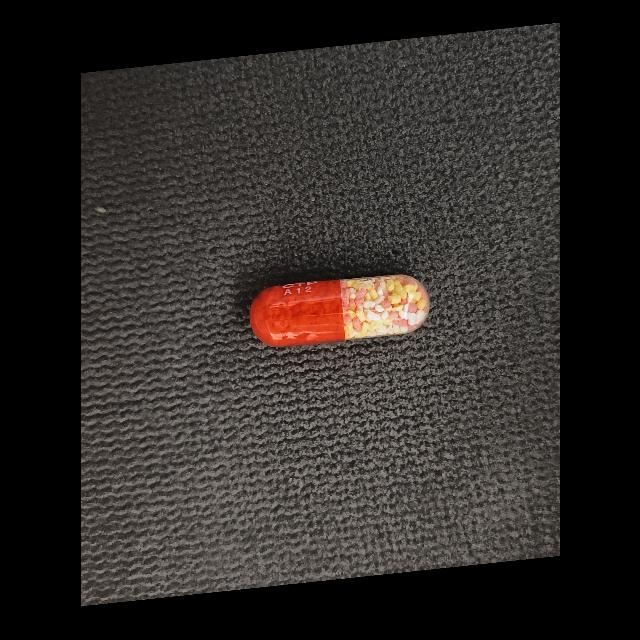Intact Capsule: (248, 275, 429, 347)
